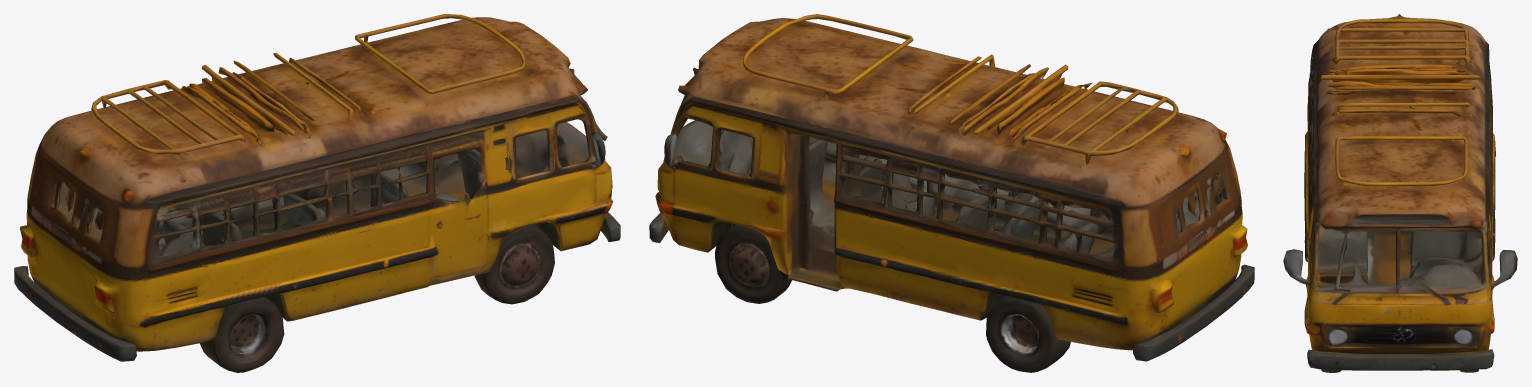
Rendered from molue.glb.
3 renders of one model, left to right at view 1: azimuth 30°, elevation 25°; view 2: azimuth 150°, elevation 25°; view 3: azimuth 270°, elevation 25°, orthographic. The views are drawn at different scales.
Parts seen in each view (by area): view 1: tripo_node_cd6cb44d-da67-4da5-a3d4-2945149f499e; view 2: tripo_node_cd6cb44d-da67-4da5-a3d4-2945149f499e; view 3: tripo_node_cd6cb44d-da67-4da5-a3d4-2945149f499e.
Boxes of the visible parts, left/top/right/bottom form: tripo_node_cd6cb44d-da67-4da5-a3d4-2945149f499e: left=14, top=14, right=620, bottom=372; tripo_node_cd6cb44d-da67-4da5-a3d4-2945149f499e: left=649, top=14, right=1254, bottom=372; tripo_node_cd6cb44d-da67-4da5-a3d4-2945149f499e: left=1283, top=14, right=1517, bottom=372.
Bounding box in the file's own units: 11 × 4.69 × 4.99.
1 material, 1 textured.
